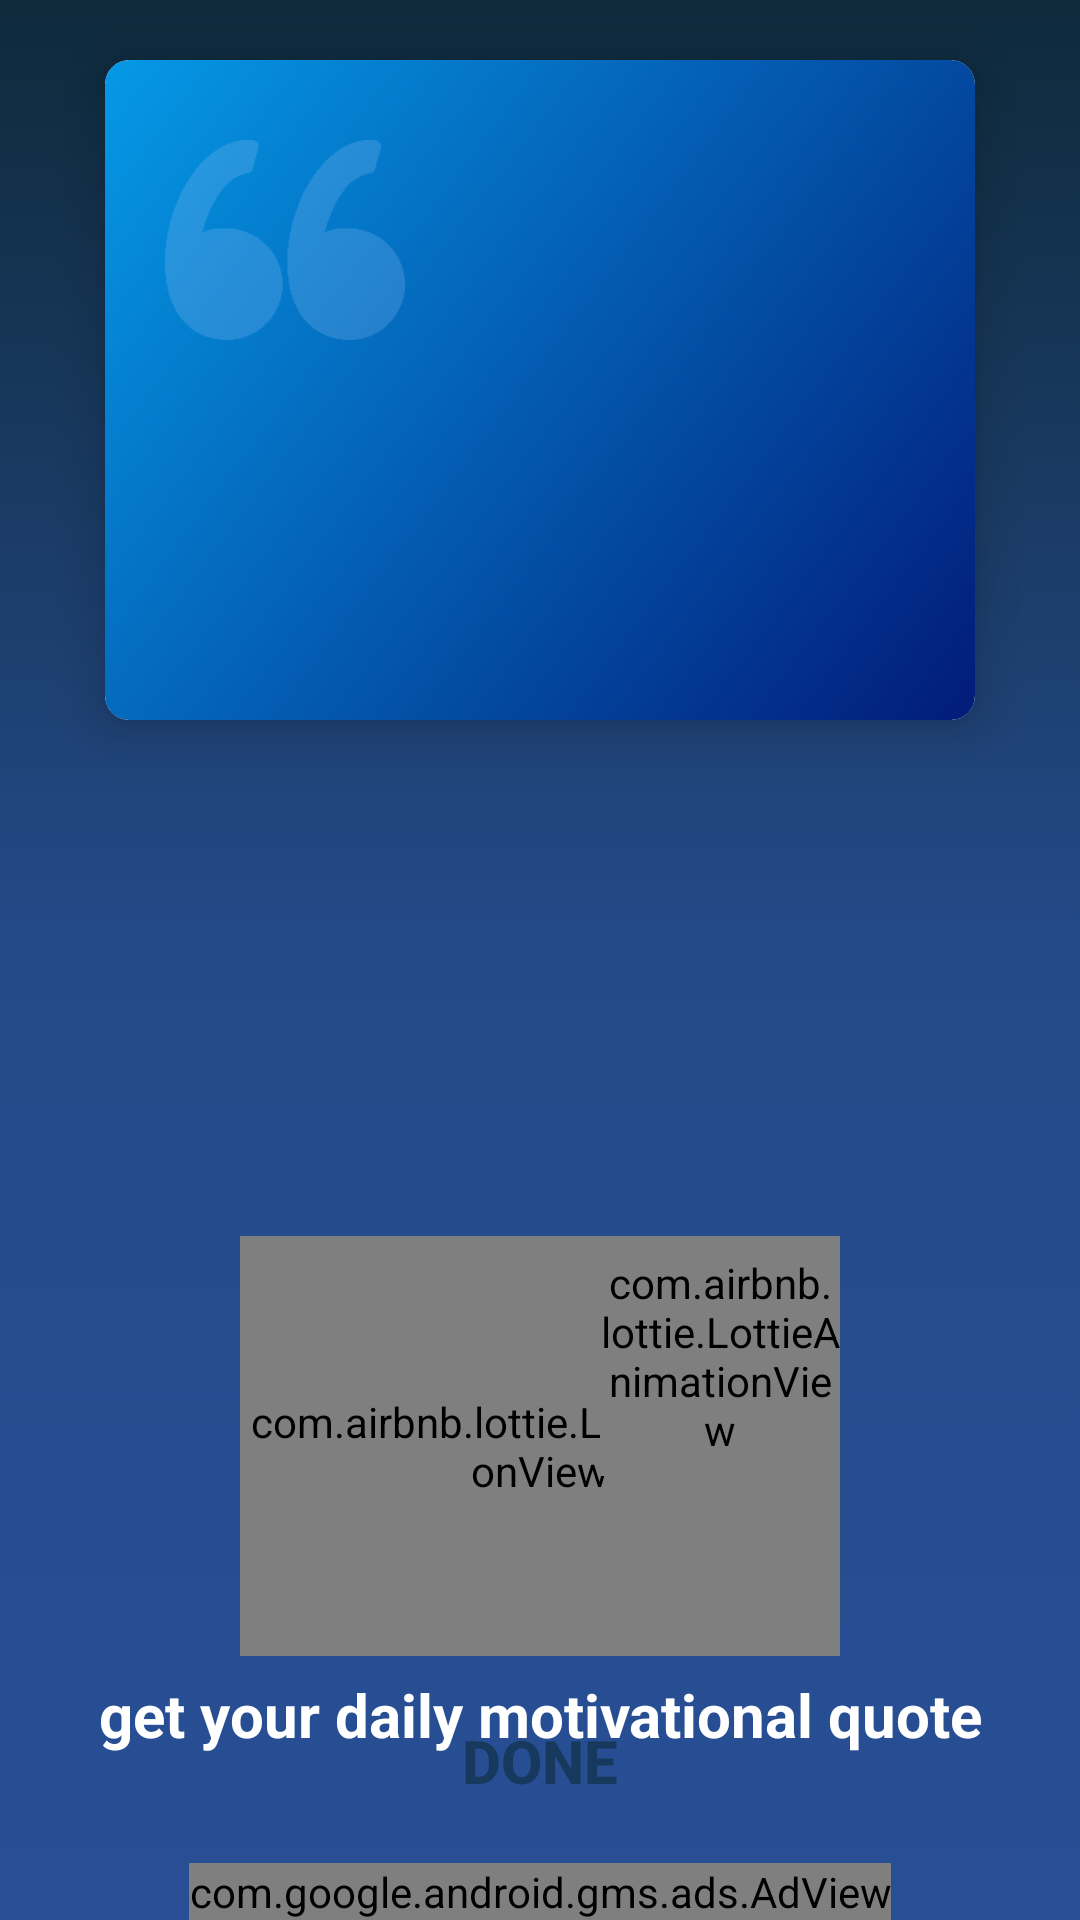

Screen size 1080 x 1920. Icon name, then its center in pixels as [x,y]:
bigquote: [285,245]
